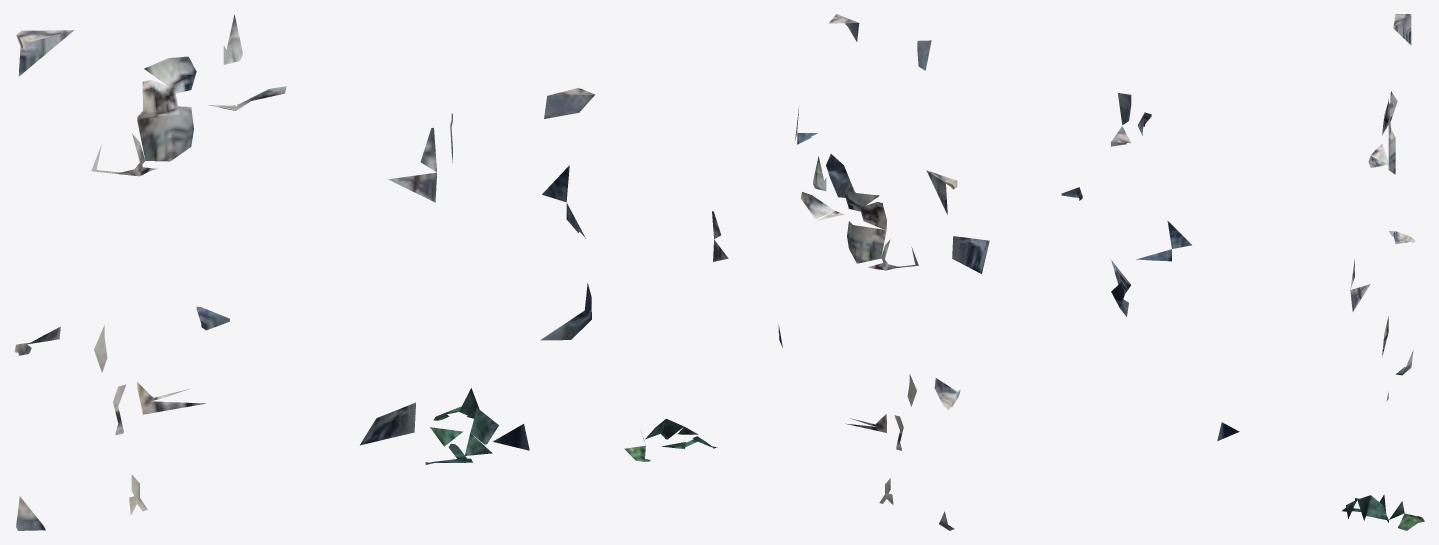
3 renders of one model, left to right at view 1: azimuth 30°, elevation 25°; view 2: azimuth 150°, elevation 25°; view 3: azimuth 270°, elevation 25°, orthographic. The views are drawn at different scales.
Visible parts, largest first — view 1: 30436272704361716737_1; view 2: 30436272704361716737_1; view 3: 30436272704361716737_1.
Boxes of the visible parts, x1,y1,x2,y2 form: 30436272704361716737_1: (14,14,595,530); 30436272704361716737_1: (624,14,1082,530); 30436272704361716737_1: (1111,14,1424,530).
Size of the model in its own units: 26.54 by 26.96 by 21.45.
1 material, 1 textured.
